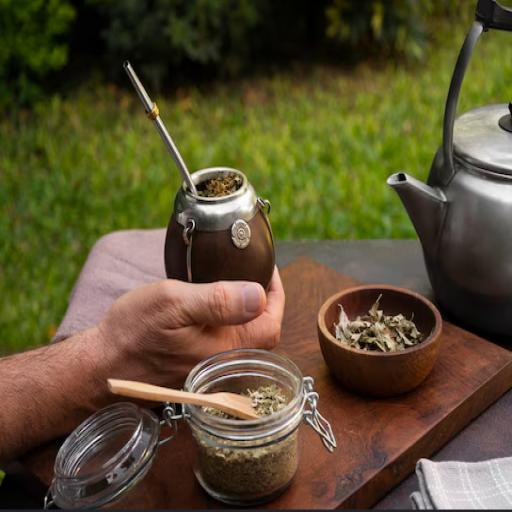mate: (166, 164, 276, 305)
